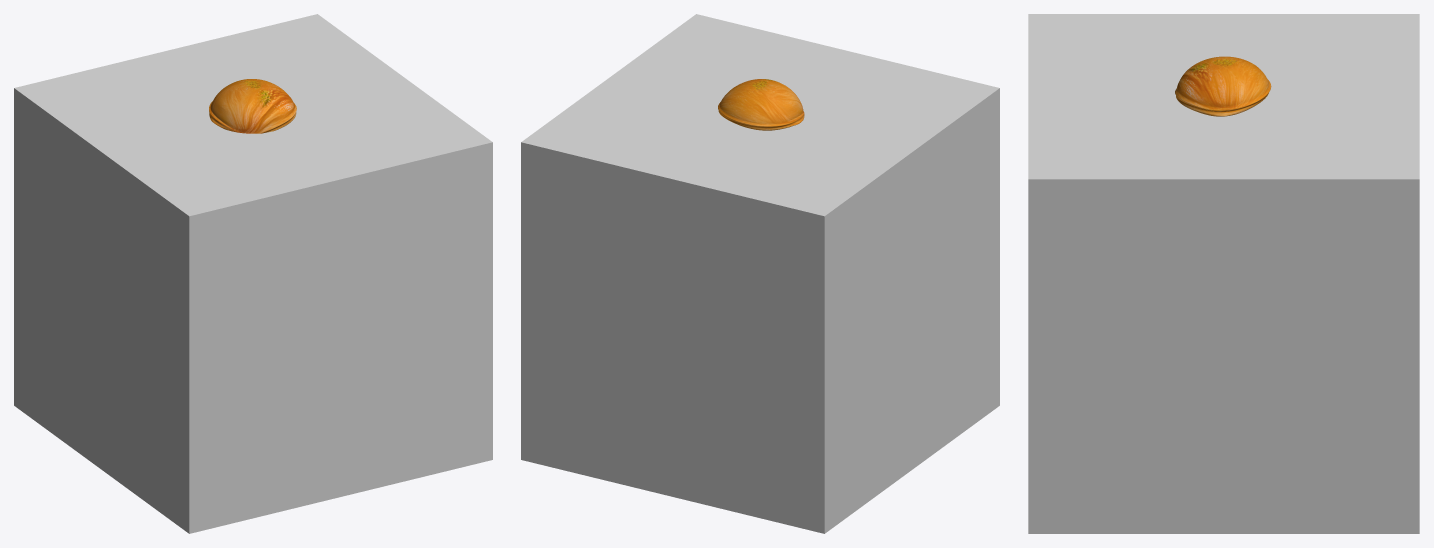
Rendered from baklavao.min.glb.
3 renders of one model, left to right at view 1: azimuth 30°, elevation 25°; view 2: azimuth 150°, elevation 25°; view 3: azimuth 270°, elevation 25°, orthographic. The views are drawn at different scales.
Visible parts, largest first — view 1: Cube, TopShell; view 2: Cube, TopShell; view 3: Cube, TopShell.
Part boxes in pixels (x1,y1,x2,y2): Cube: (14,14,492,533); TopShell: (209,79,296,133); Cube: (521,14,999,533); TopShell: (718,79,804,130); Cube: (1028,14,1419,533); TopShell: (1175,56,1271,116).
Bounding box in the file's own units: 2 × 2.2 × 2.
Materials: 2 (1 with a texture image).
